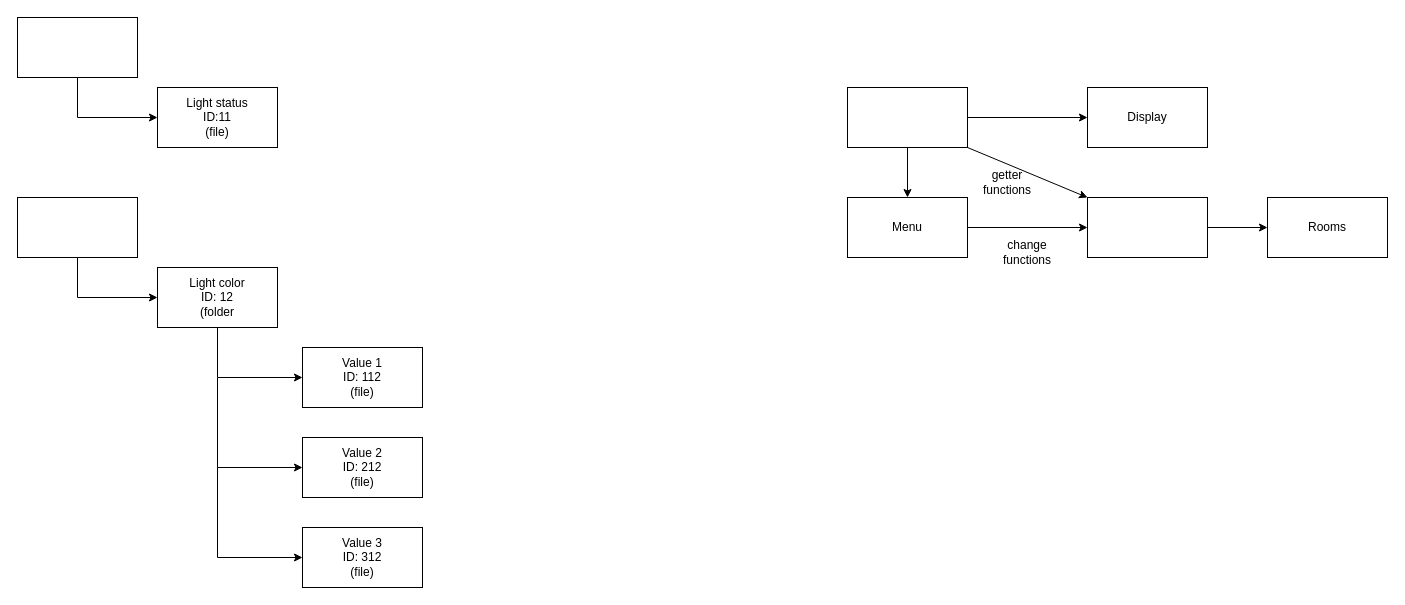
Some shapes in this 1405 by 605 pixel diagram are drawn without their labels. The centre of each missing label's shape, as x and y in pixels:
"Control panel" goes at point 907,117.
"Mediator" goes at point 1147,227.
"ROOM 1 ID: 1 (folder)" goes at point 77,47.
"ROOM 3 ID: 2 (folder)" goes at point 77,227.
